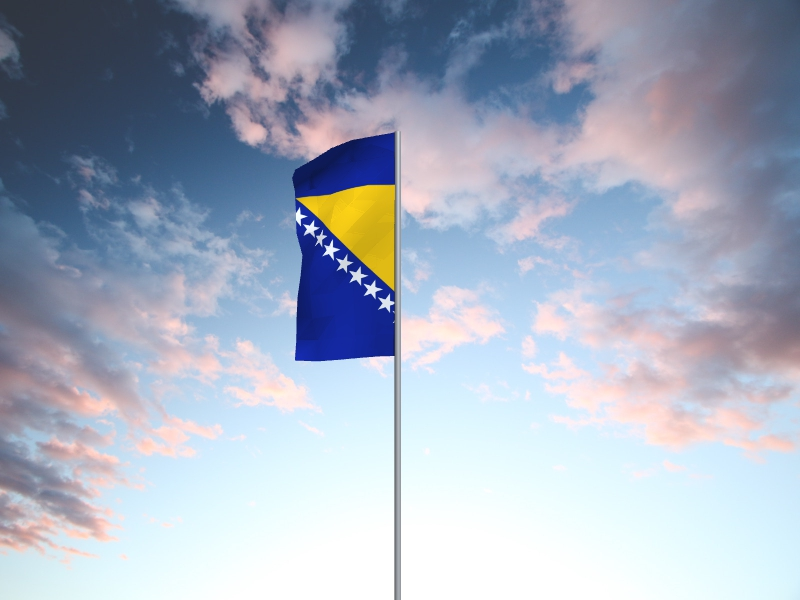ba: (291, 132, 396, 364)
